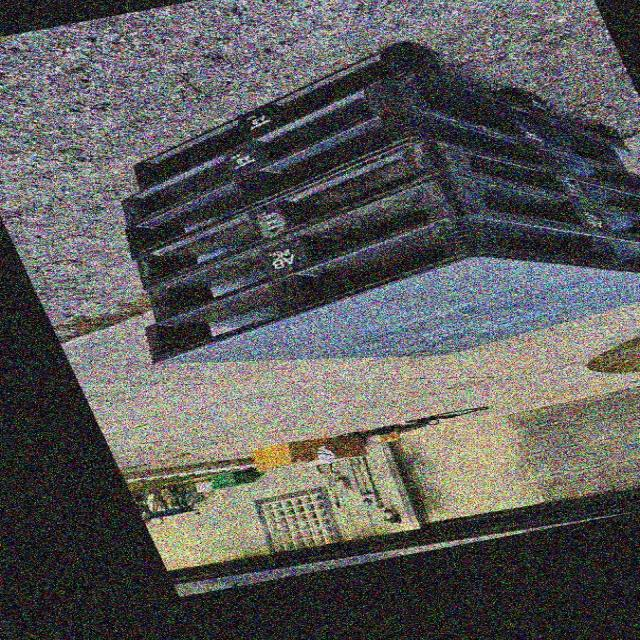non-igps: (114, 62, 638, 234), (118, 98, 639, 266), (132, 205, 640, 373), (130, 131, 639, 296), (137, 164, 639, 331), (125, 36, 639, 198)
